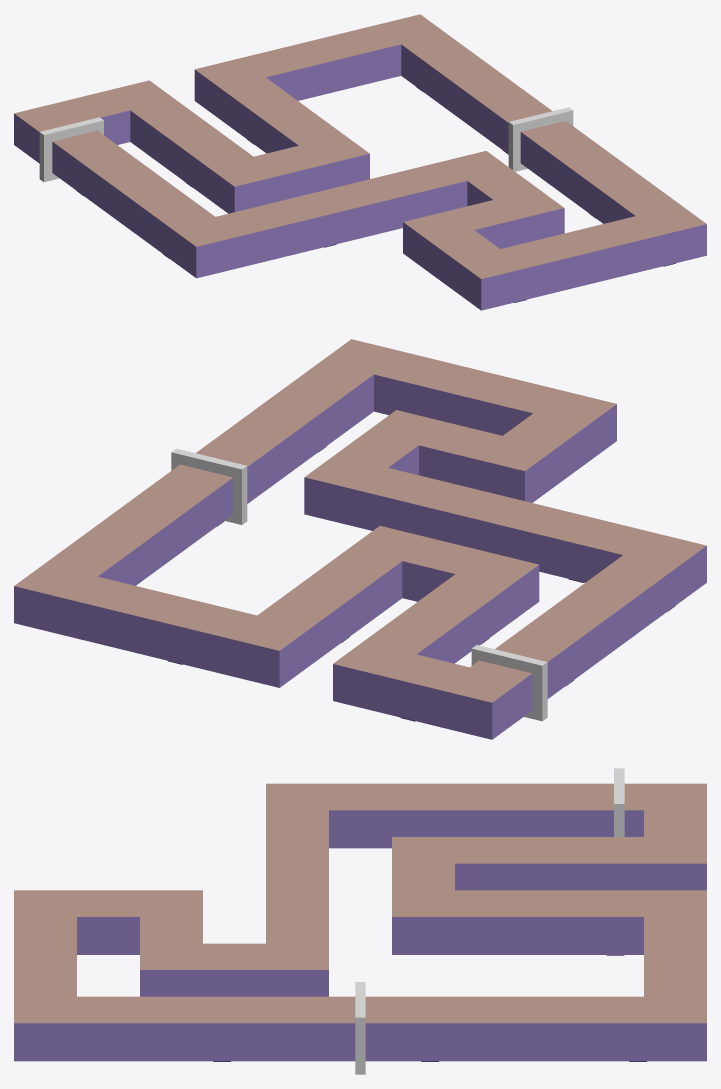
File: hall.glb
3 views of the same model, one above another, from view 1: azimuth 30°, elevation 25°; view 2: azimuth 150°, elevation 25°; view 3: azimuth 270°, elevation 25° (orthographic). The views are drawn at different scales.
Parts seen in each view (by area): view 1: Hall, Half, Finish; view 2: Hall, Half, Finish; view 3: Hall, Finish, Half.
Boxes of the visible parts, x1,y1,x2,y2 form: Hall: (14, 14, 706, 310); Half: (39, 117, 103, 182); Finish: (508, 107, 573, 171); Hall: (14, 339, 706, 739); Half: (471, 645, 547, 721); Finish: (171, 448, 247, 524); Hall: (14, 783, 706, 1061); Finish: (355, 982, 365, 1074); Half: (614, 768, 624, 836).
Size of the model in its own units: 56.13 by 6 by 66.
2 materials, 2 textured.
